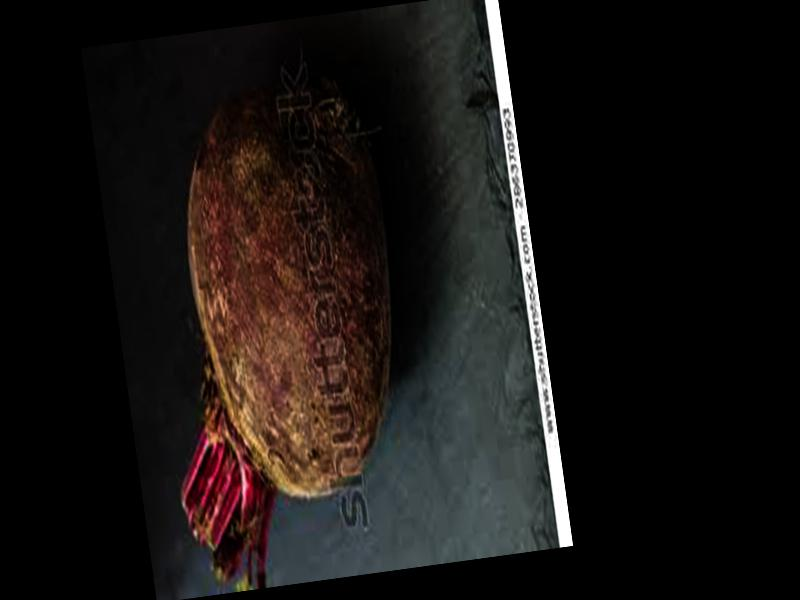Beet: (129, 68, 430, 593)
